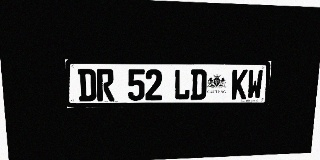2: (145, 69, 162, 101)
5: (128, 69, 145, 101)
D: (78, 69, 97, 101), (190, 69, 207, 100)
K: (231, 69, 248, 99)
L: (174, 69, 190, 100)
R: (96, 69, 114, 101)
W: (247, 69, 263, 99)
